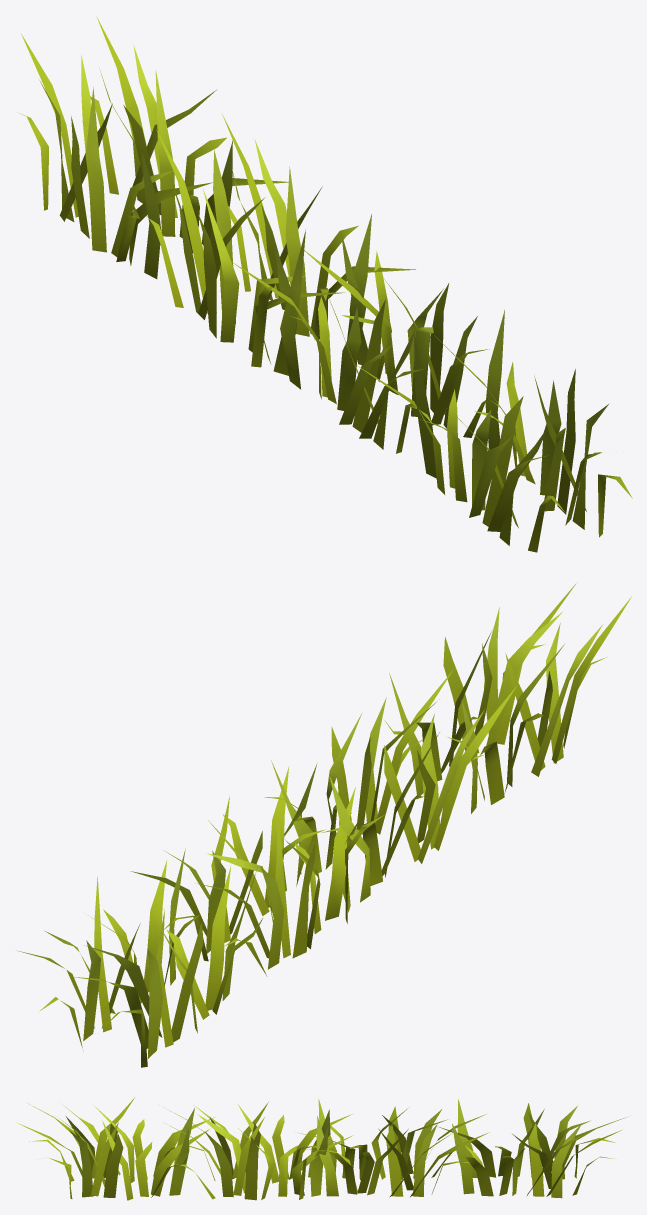
Rendered from SM_Rice_02.fbx.
3 renders of one model, top to bottom at view 1: azimuth 30°, elevation 25°; view 2: azimuth 150°, elevation 25°; view 3: azimuth 270°, elevation 25°, orthographic. The views are drawn at different scales.
Parts seen in each view (by area): view 1: SM_Rice_02; view 2: SM_Rice_02; view 3: SM_Rice_02.
Boxes of the visible parts, x1,y1,x2,y2 form: SM_Rice_02: (19, 16, 632, 552); SM_Rice_02: (17, 583, 631, 1067); SM_Rice_02: (16, 1097, 626, 1200).
Bounding box in the file's own units: 1.35 × 1.28 × 9.25.
